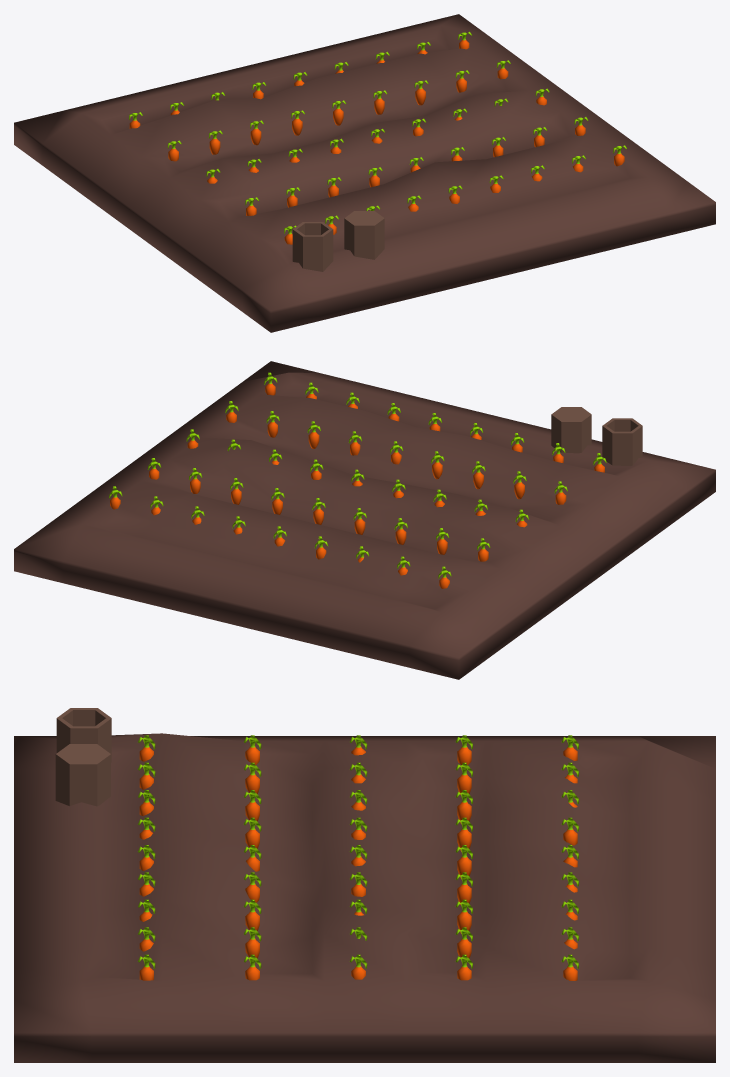
Rendered from TheCarrotFarm.fbx.
The picture shows the model from 3 angles, top to bottom: view 1: azimuth 30°, elevation 25°; view 2: azimuth 150°, elevation 25°; view 3: azimuth 270°, elevation 25°; orthographic projection. The views are drawn at different scales.
Parts seen in each view (by area): view 1: Plane.024, Plane.001, Cylinder.003, Cylinder.004; view 2: Plane.024, Plane.001, Cylinder.003, Cylinder.004; view 3: Plane.024, Plane.001, Cylinder.004, Cylinder.003.
Part boxes in pixels (left/top/right/bottom): Plane.024: left=14, top=14, right=715, bottom=332; Plane.001: left=129, top=31, right=626, bottom=244; Cylinder.003: left=292, top=222, right=333, bottom=271; Cylinder.004: left=344, top=211, right=384, bottom=259; Plane.024: left=14, top=361, right=715, bottom=679; Plane.001: left=109, top=372, right=606, bottom=588; Cylinder.003: left=602, top=418, right=642, bottom=465; Cylinder.004: left=551, top=407, right=591, bottom=453; Plane.024: left=14, top=733, right=715, bottom=1062; Plane.001: left=138, top=735, right=578, bottom=980; Cylinder.004: left=55, top=744, right=110, bottom=806; Cylinder.003: left=56, top=708, right=111, bottom=762.
Bounding box in the file's own units: 2457 × 360 × 2457.
